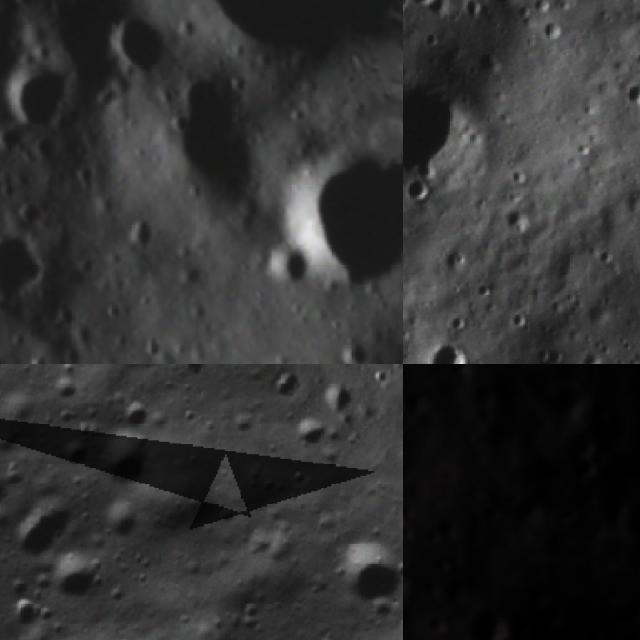crater: (130, 50, 290, 250), (270, 143, 403, 316), (148, 0, 351, 113), (87, 0, 190, 96), (0, 47, 94, 150), (403, 76, 494, 182), (0, 217, 55, 325), (7, 485, 83, 563), (336, 535, 403, 608), (90, 433, 159, 502), (253, 236, 319, 307), (50, 552, 110, 612), (113, 209, 167, 268), (109, 388, 158, 436), (587, 490, 631, 540), (47, 430, 92, 475), (329, 330, 387, 364), (544, 387, 590, 428), (0, 117, 32, 166), (470, 597, 502, 640), (418, 340, 475, 364), (560, 429, 596, 466), (403, 174, 437, 209), (570, 456, 604, 487), (616, 75, 640, 116), (622, 490, 640, 542), (0, 453, 14, 518), (625, 539, 640, 578), (403, 566, 412, 613), (406, 0, 443, 9)
